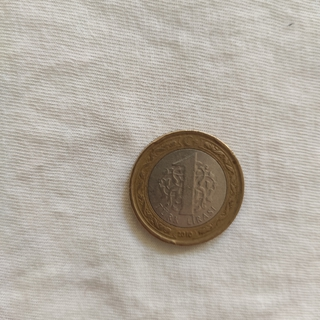1TL: (127, 128, 245, 248)
